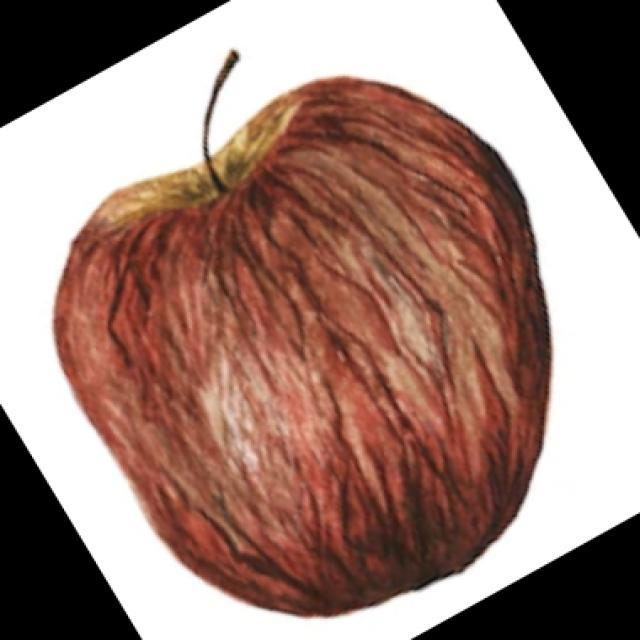Rotten: (60, 67, 550, 613)
